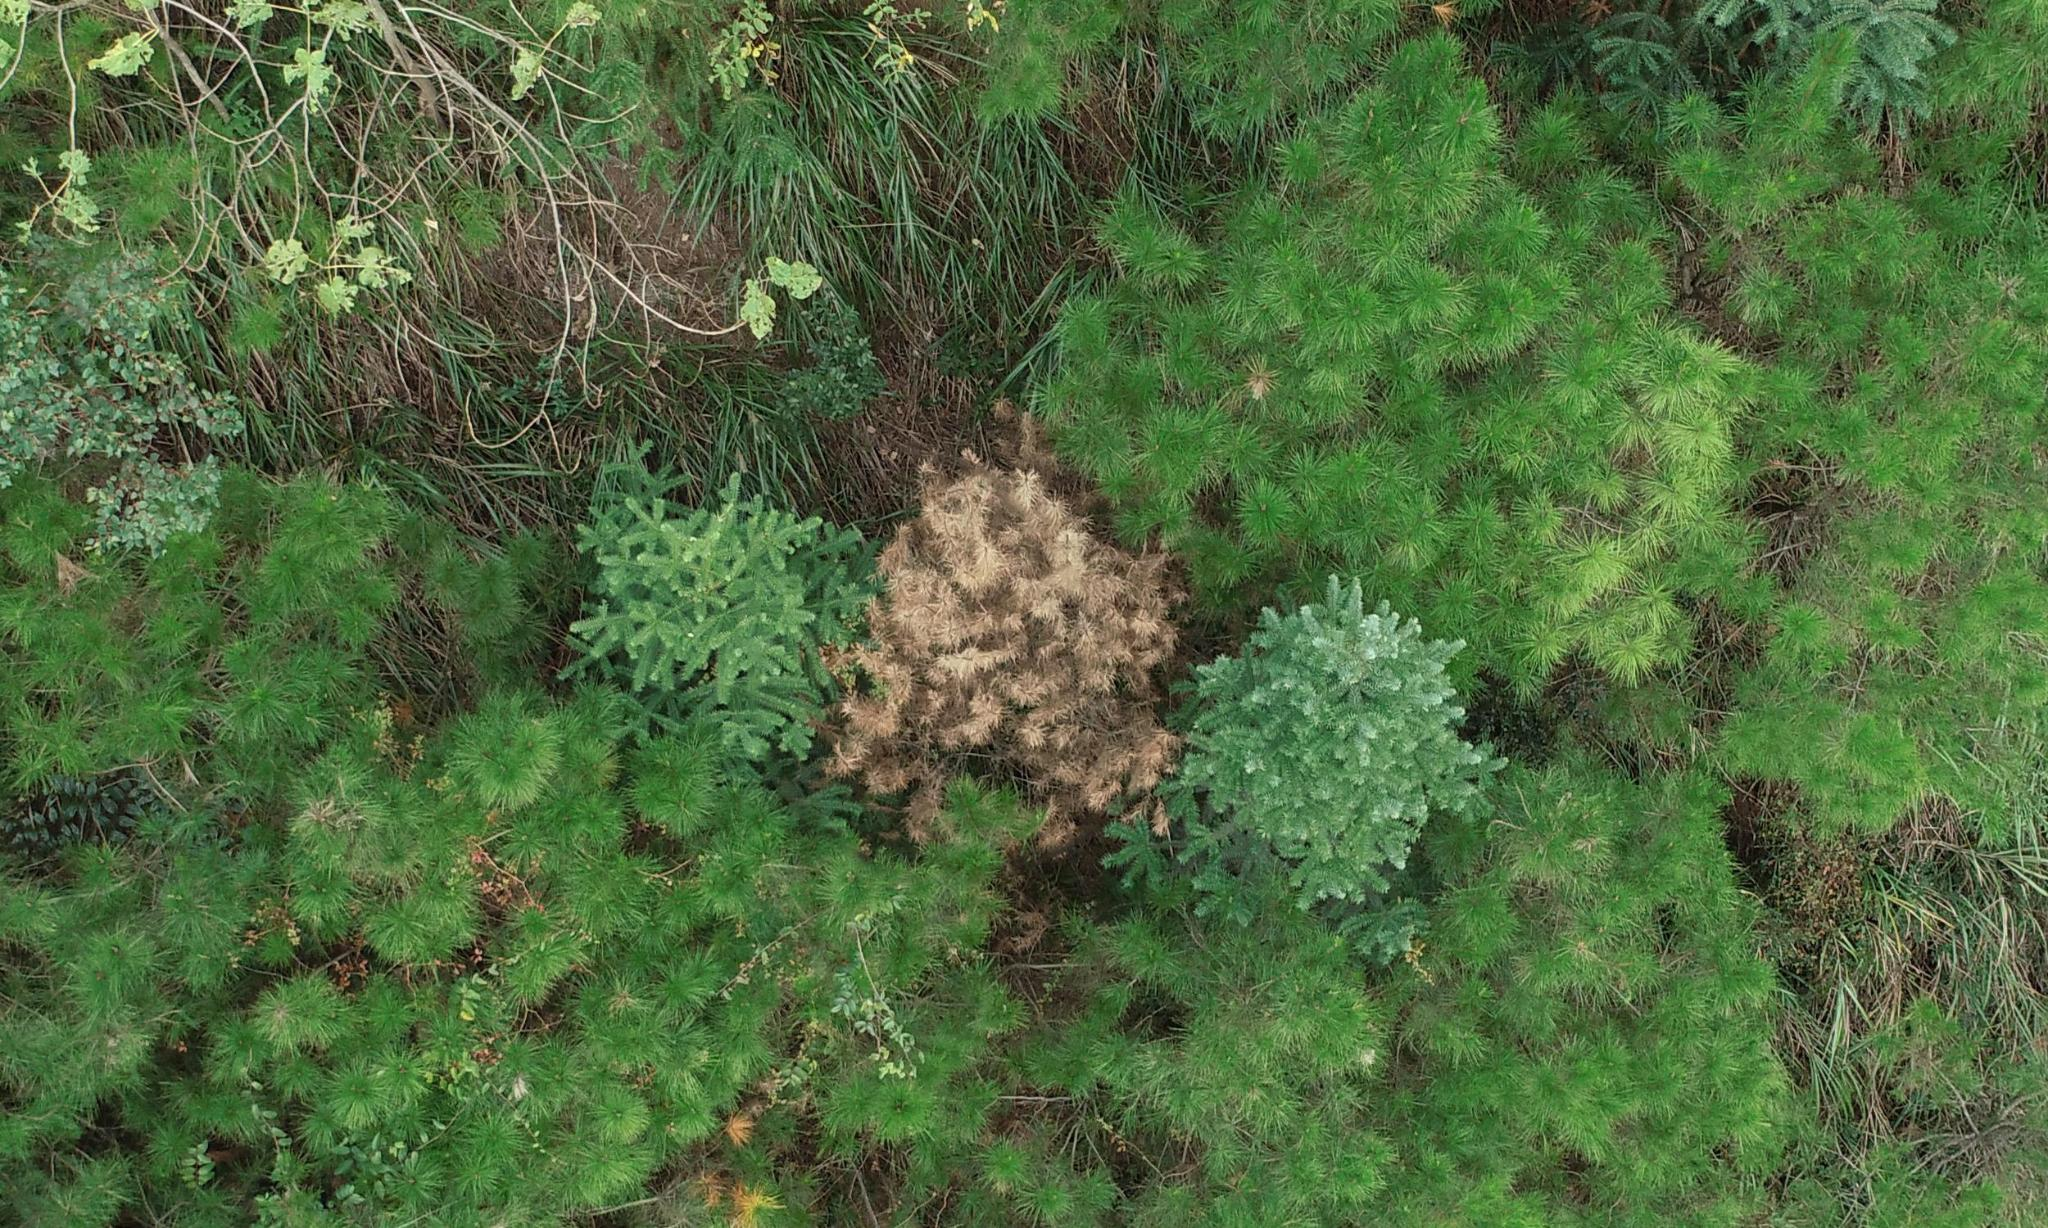heavy: (826, 456, 1174, 849)
